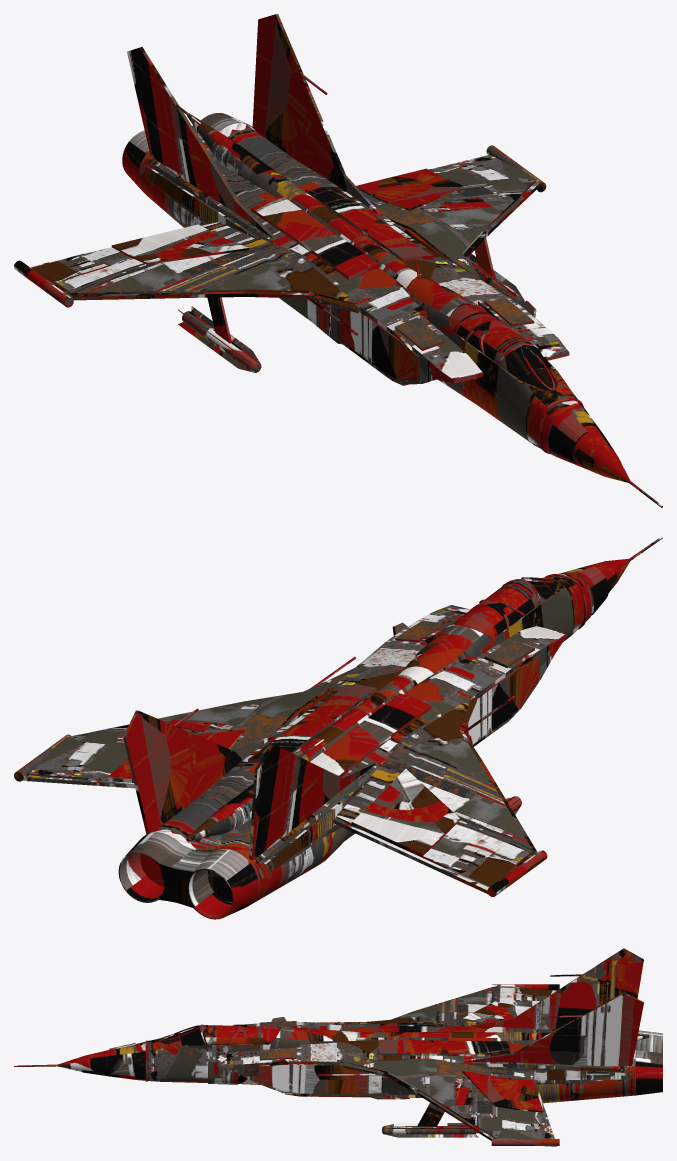
File: MiG-31.fbx
3 renders of one model, top to bottom at view 1: azimuth 30°, elevation 25°; view 2: azimuth 150°, elevation 25°; view 3: azimuth 270°, elevation 25°, orthographic. The views are drawn at different scales.
Visible parts, largest first — view 1: Cube.001; view 2: Cube.001; view 3: Cube.001.
Boxes of the visible parts, x1,y1,x2,y2 form: Cube.001: (14, 14, 662, 507); Cube.001: (14, 536, 662, 919); Cube.001: (14, 948, 662, 1146).
Size of the model in its own units: 445 by 161 by 774.
